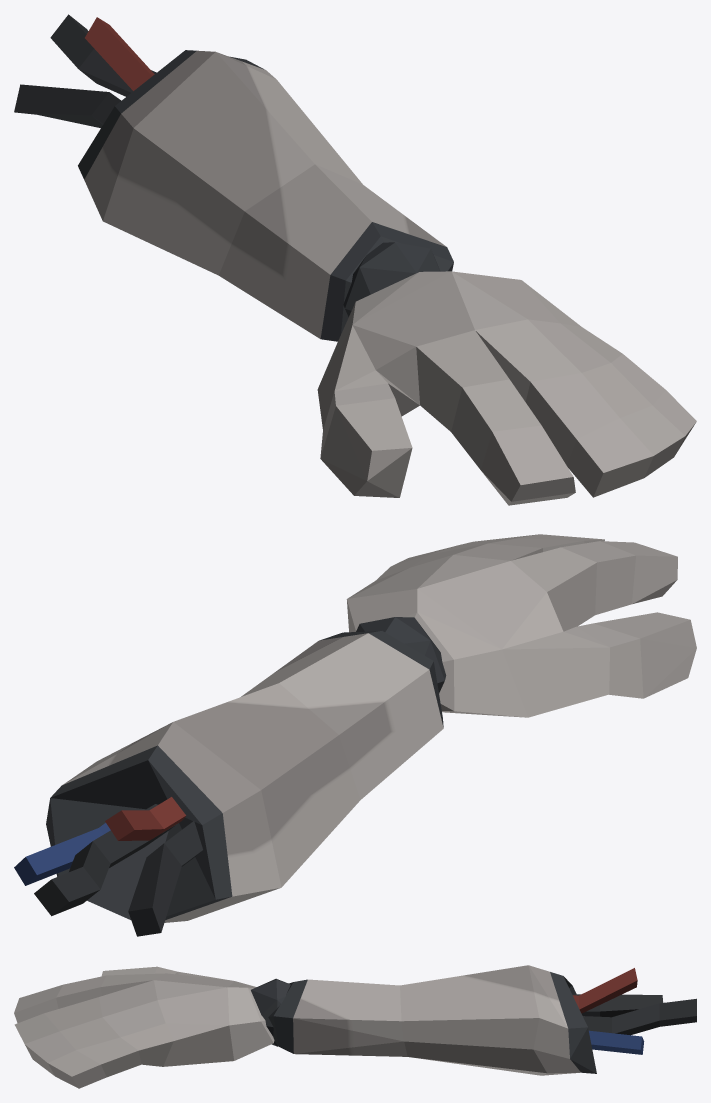
File: SM_Prop_Robot_Part_03.fbx
The picture shows the model from 3 angles, top to bottom: view 1: azimuth 30°, elevation 25°; view 2: azimuth 150°, elevation 25°; view 3: azimuth 270°, elevation 25°; orthographic projection. The views are drawn at different scales.
Visible parts, largest first — view 1: SM_Prop_Robot_Part_03; view 2: SM_Prop_Robot_Part_03; view 3: SM_Prop_Robot_Part_03.
Part boxes in pixels (left/top/right/bottom): SM_Prop_Robot_Part_03: left=14, top=14, right=696, bottom=505; SM_Prop_Robot_Part_03: left=14, top=534, right=696, bottom=936; SM_Prop_Robot_Part_03: left=14, top=965, right=696, bottom=1088.
Bounding box in the file's own units: 18.73 × 11.13 × 58.3.
